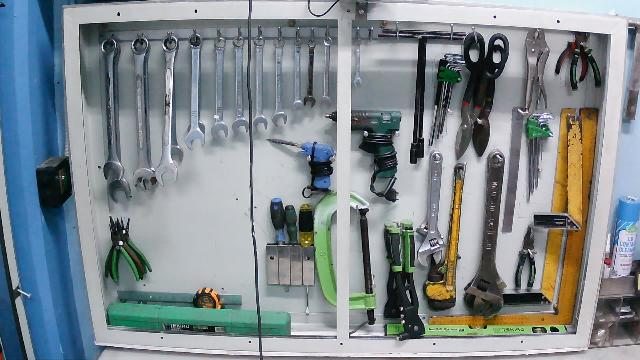tang_rivet: (387, 225, 426, 341)
